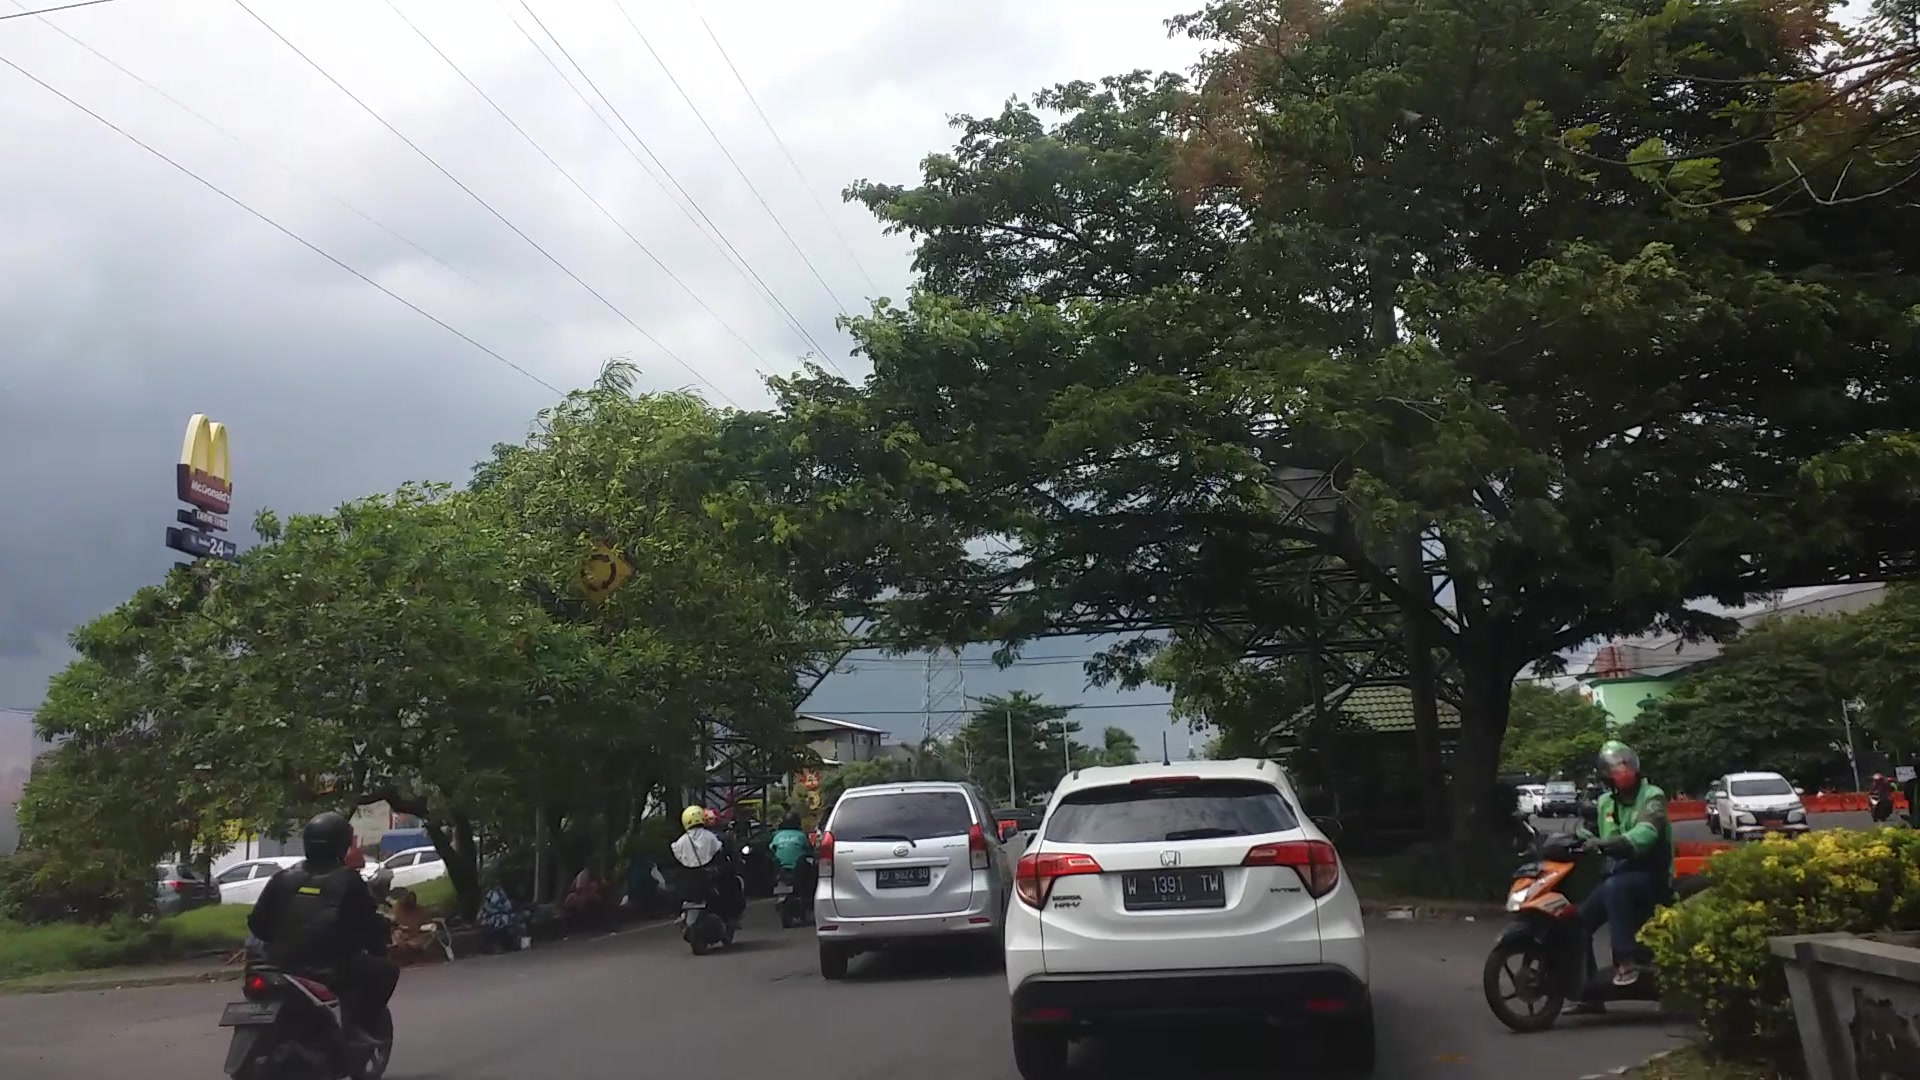plate_positive: (1124, 868, 1225, 910)
